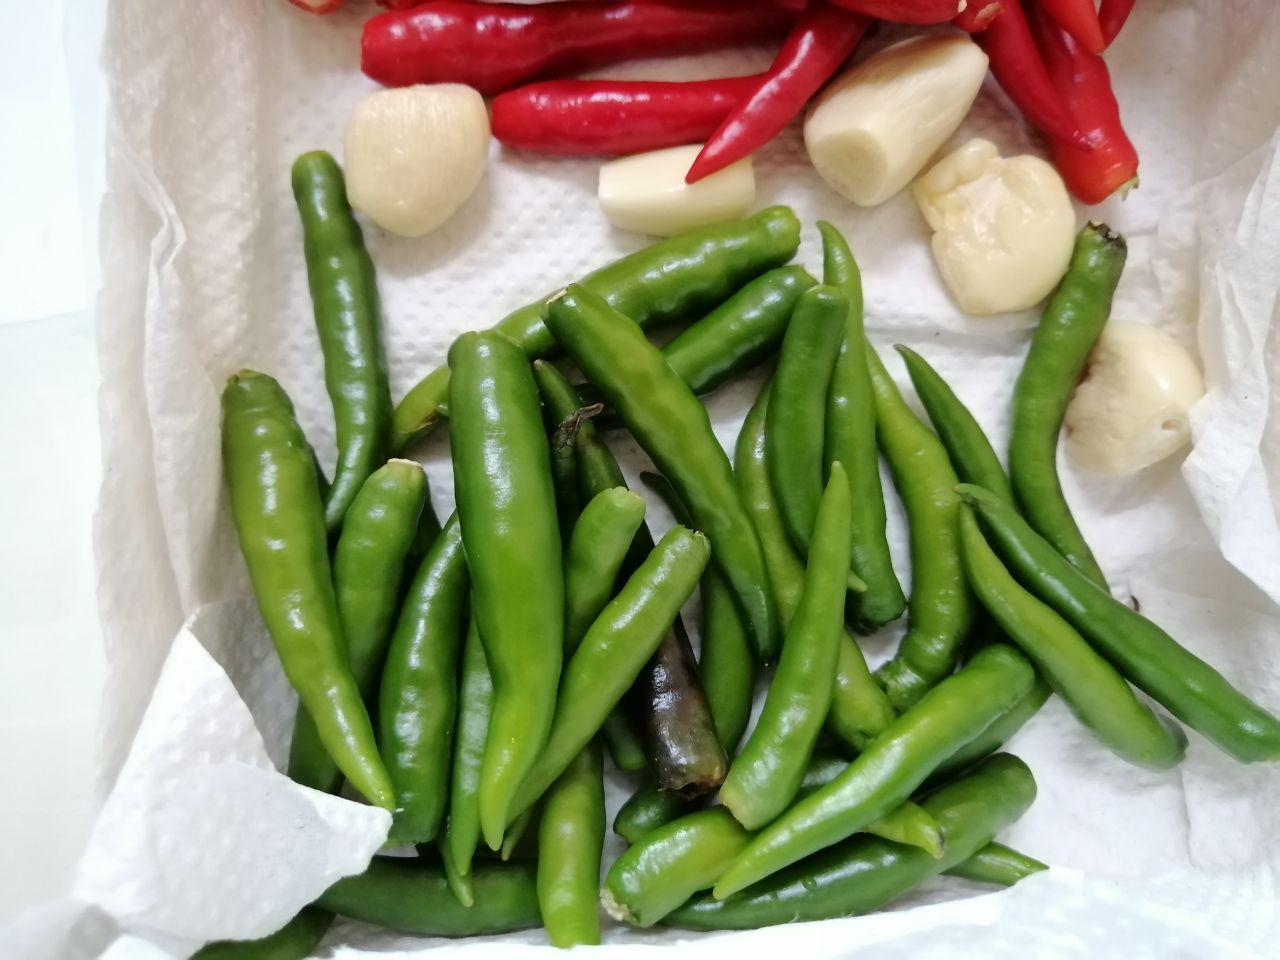lada hijau: (380, 187, 813, 447), (544, 271, 799, 667), (209, 356, 410, 840), (719, 633, 1058, 893), (665, 755, 1075, 950), (440, 314, 581, 880), (491, 509, 737, 817), (712, 453, 880, 849), (1005, 202, 1156, 630), (266, 131, 405, 534), (855, 321, 993, 687)
lada merah: (353, 6, 793, 93), (681, 1, 862, 193), (490, 61, 816, 159), (1011, 1, 1166, 205)
